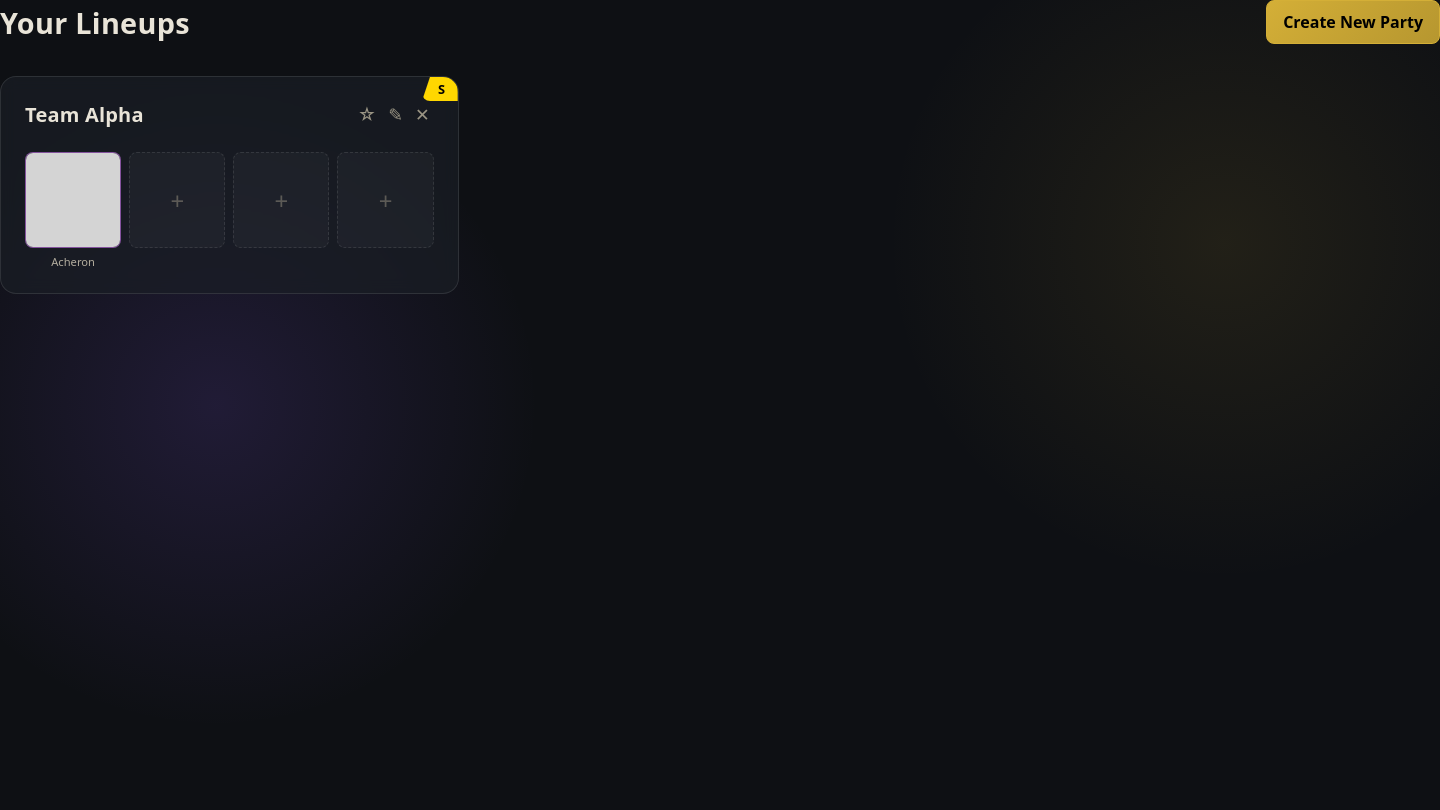
Test case: PartiesTab (HSR config wiring) › uses the Party noun with the tier selector enabled
The width and height of the screenshot is (1440, 810).
Check: the heading "Your Lineups" is shown, box [0,2,190,42]
Click the button "Create New Party" at (1353, 22), box [1266,0,1439,44]
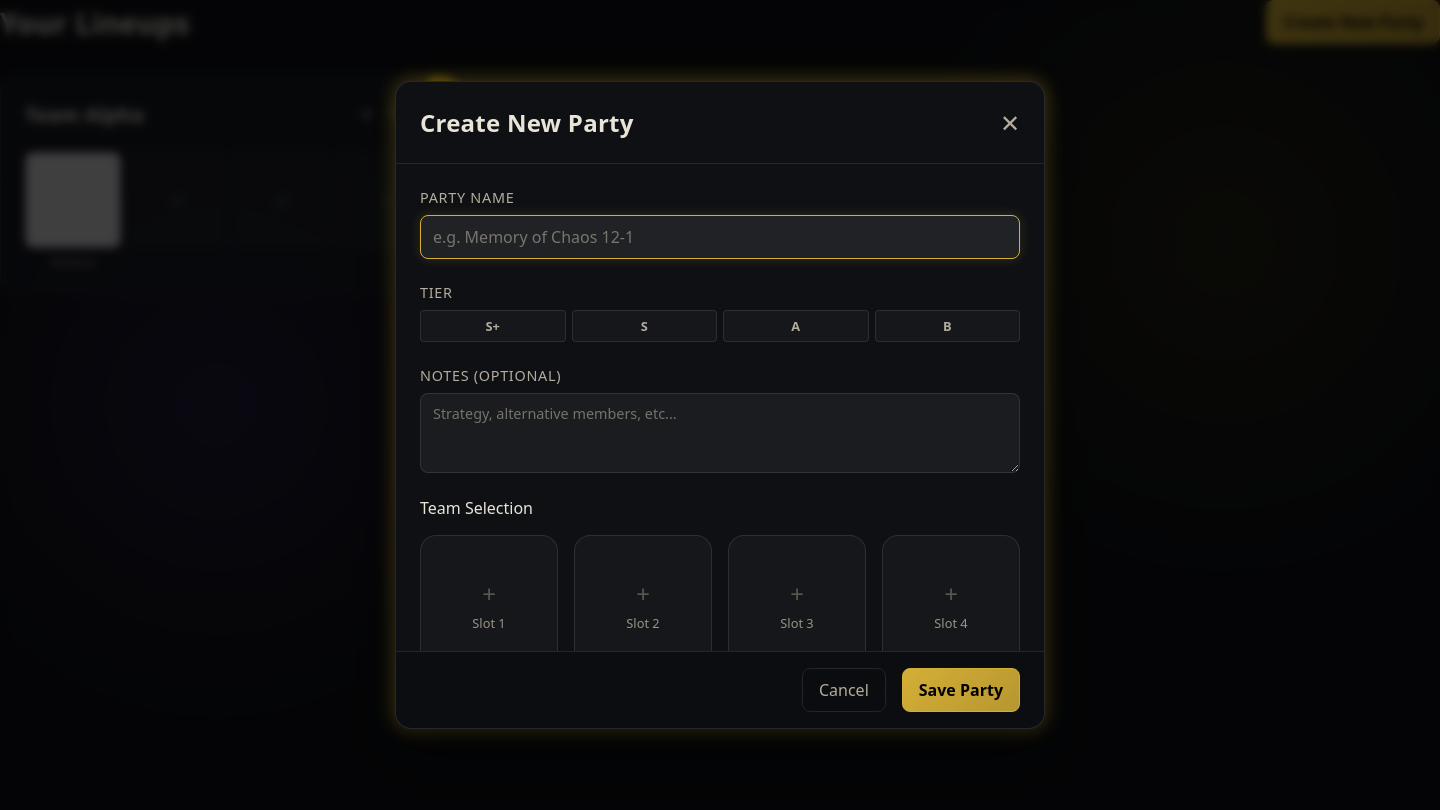
Check: the field with placeholder "e.g. Memory of Chaos 12-1" is shown, box [420,215,1020,259]
Check: the text "Tier" is shown, box [420,283,453,302]
